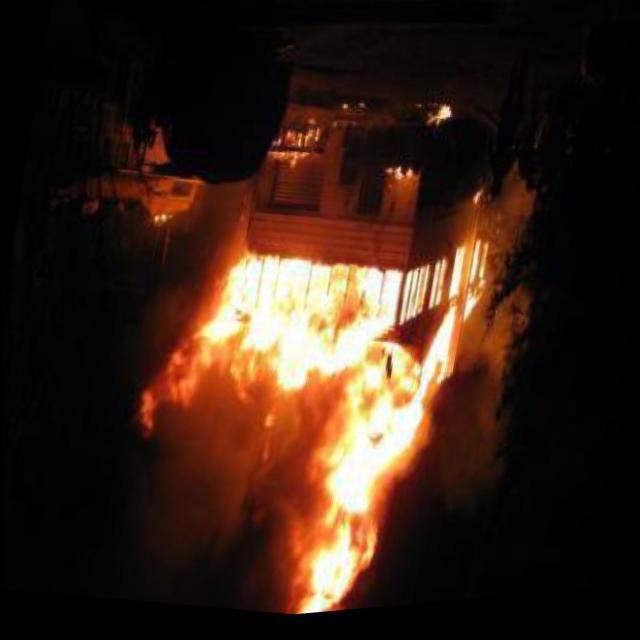Fire: (138, 226, 474, 630), (265, 113, 324, 178), (379, 161, 416, 201), (424, 98, 458, 141), (146, 201, 182, 234)
